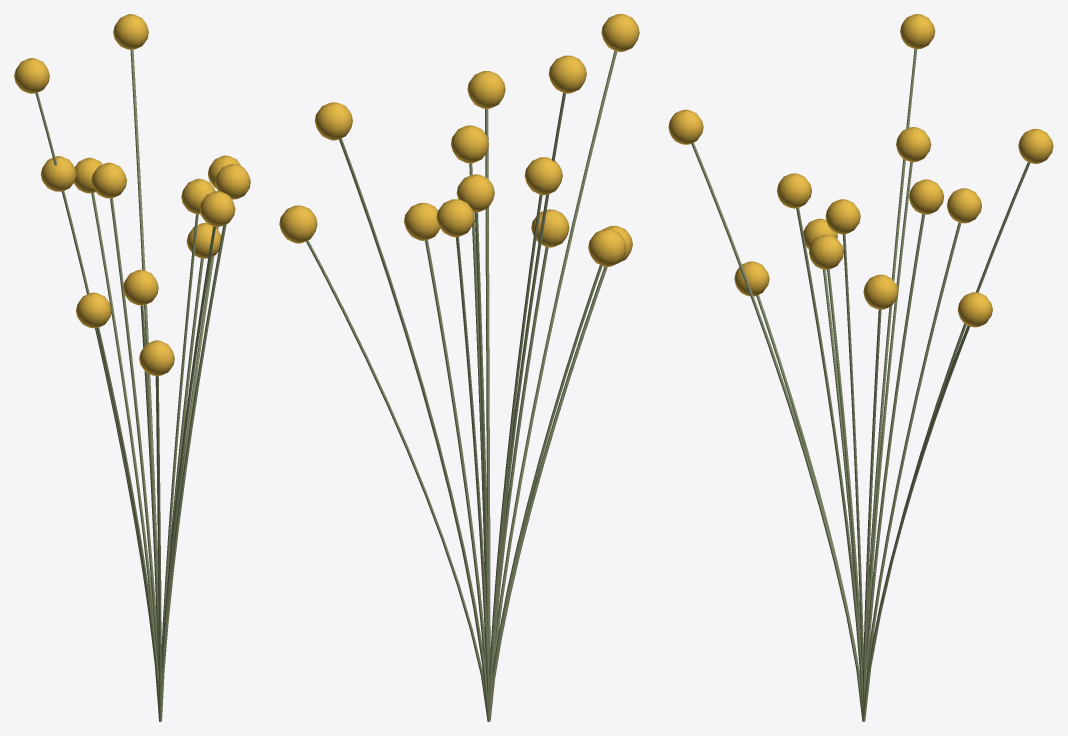
File: billy-1.glb
The picture shows the model from 3 angles, left to right: view 1: azimuth 30°, elevation 25°; view 2: azimuth 150°, elevation 25°; view 3: azimuth 270°, elevation 25°; orthographic projection. The views are drawn at different scales.
Parts seen in each view (by area): view 1: billy-stems, billy-leaves; view 2: billy-stems, billy-leaves; view 3: billy-stems, billy-leaves.
Boxes of the visible parts, left/top/right/bottom form: billy-stems: left=35, top=49, right=226, bottom=721; billy-leaves: left=14, top=14, right=250, bottom=375; billy-stems: left=306, top=50, right=617, bottom=721; billy-leaves: left=279, top=14, right=639, bottom=266; billy-stems: left=691, top=49, right=1030, bottom=721; billy-leaves: left=668, top=14, right=1053, bottom=327.
Bounding box in the file's own units: 0.262 × 0.6571 × 0.3491.
